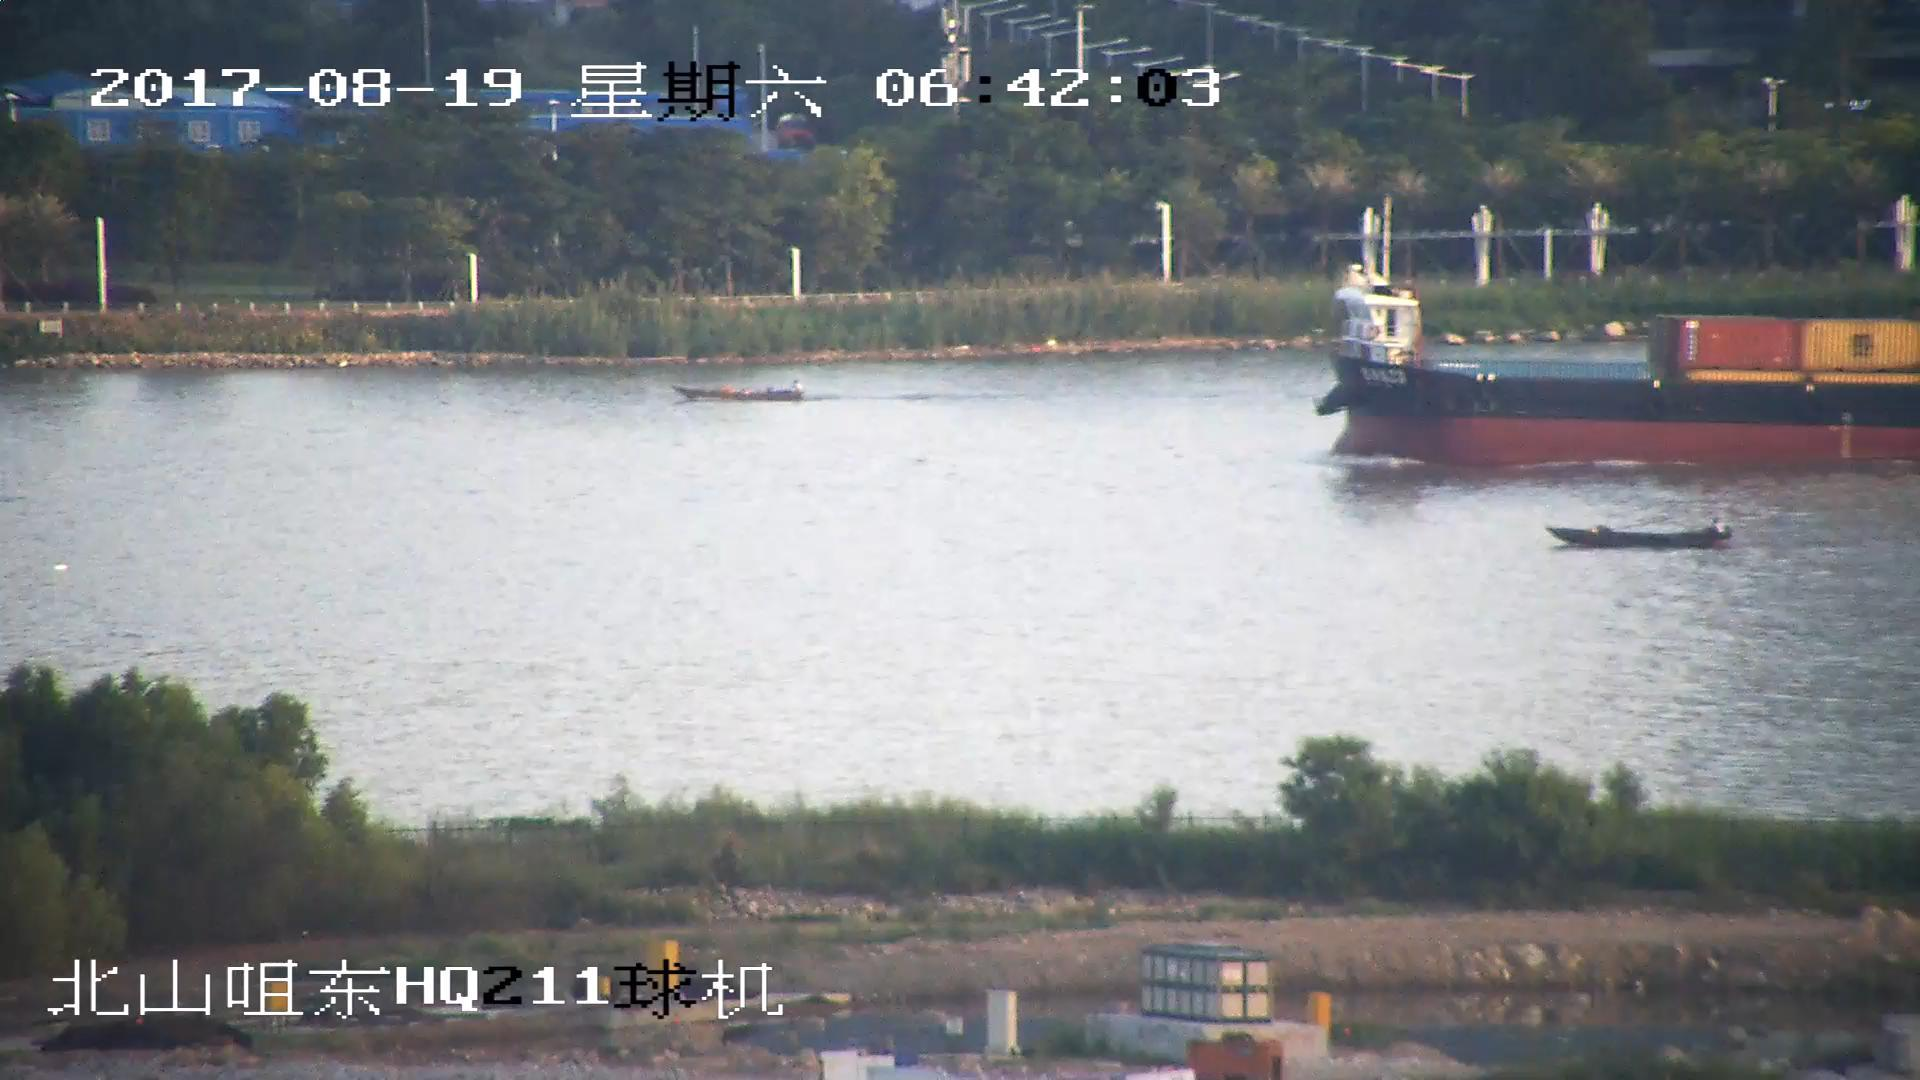Ship: (1311, 262, 1920, 473), (1549, 521, 1735, 553), (679, 378, 808, 406)
